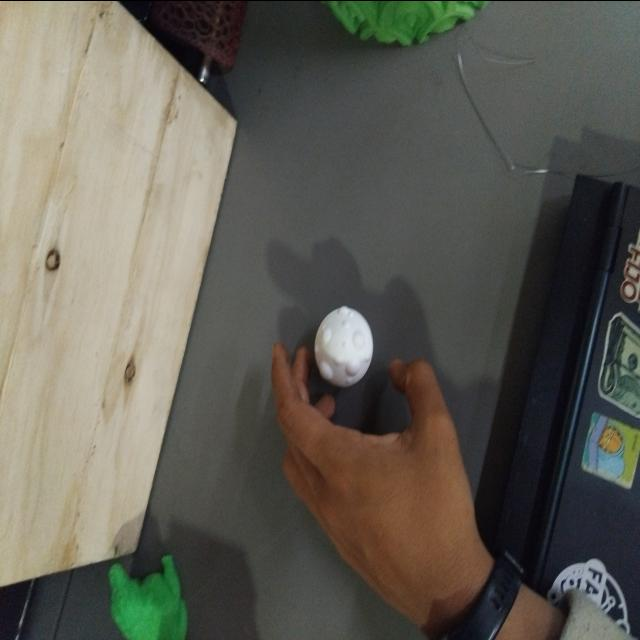Hongo: (308, 297, 376, 391)
